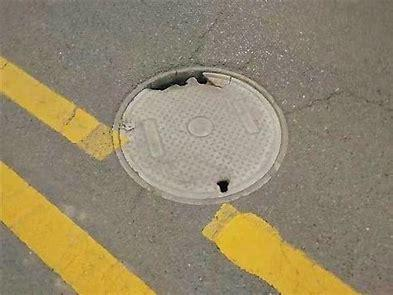wellcover: (104, 55, 297, 207)
